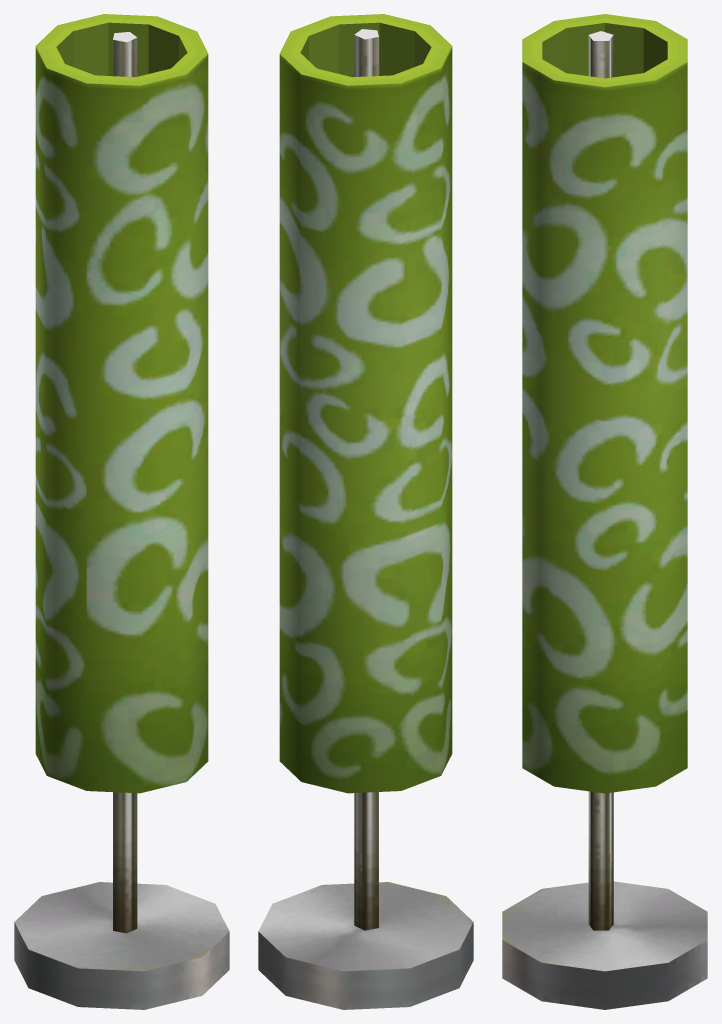
File: furni_0200147_02.FBX
3 views of the same model, side by side, from view 1: azimuth 30°, elevation 25°; view 2: azimuth 150°, elevation 25°; view 3: azimuth 270°, elevation 25° (orthographic).
Visible parts, largest first — view 1: furni_0200147_02; view 2: furni_0200147_02; view 3: furni_0200147_02.
Boxes of the visible parts, x1,y1,x2,y2 form: furni_0200147_02: [14, 14, 229, 1009]; furni_0200147_02: [258, 14, 473, 1009]; furni_0200147_02: [502, 14, 707, 1009].
Size of the model in its own units: 25.94 by 123 by 24.67.
